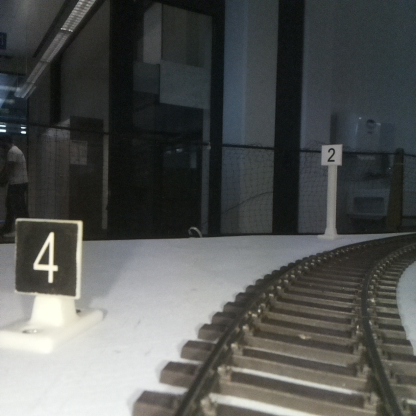black-stop-4: (15, 222, 78, 341)
white-info-2: (321, 144, 341, 238)
